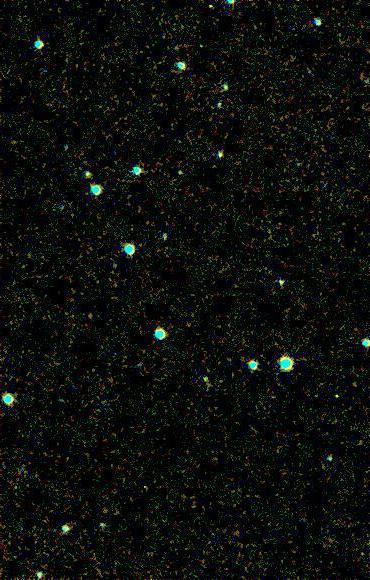star: (193, 0, 223, 23)
